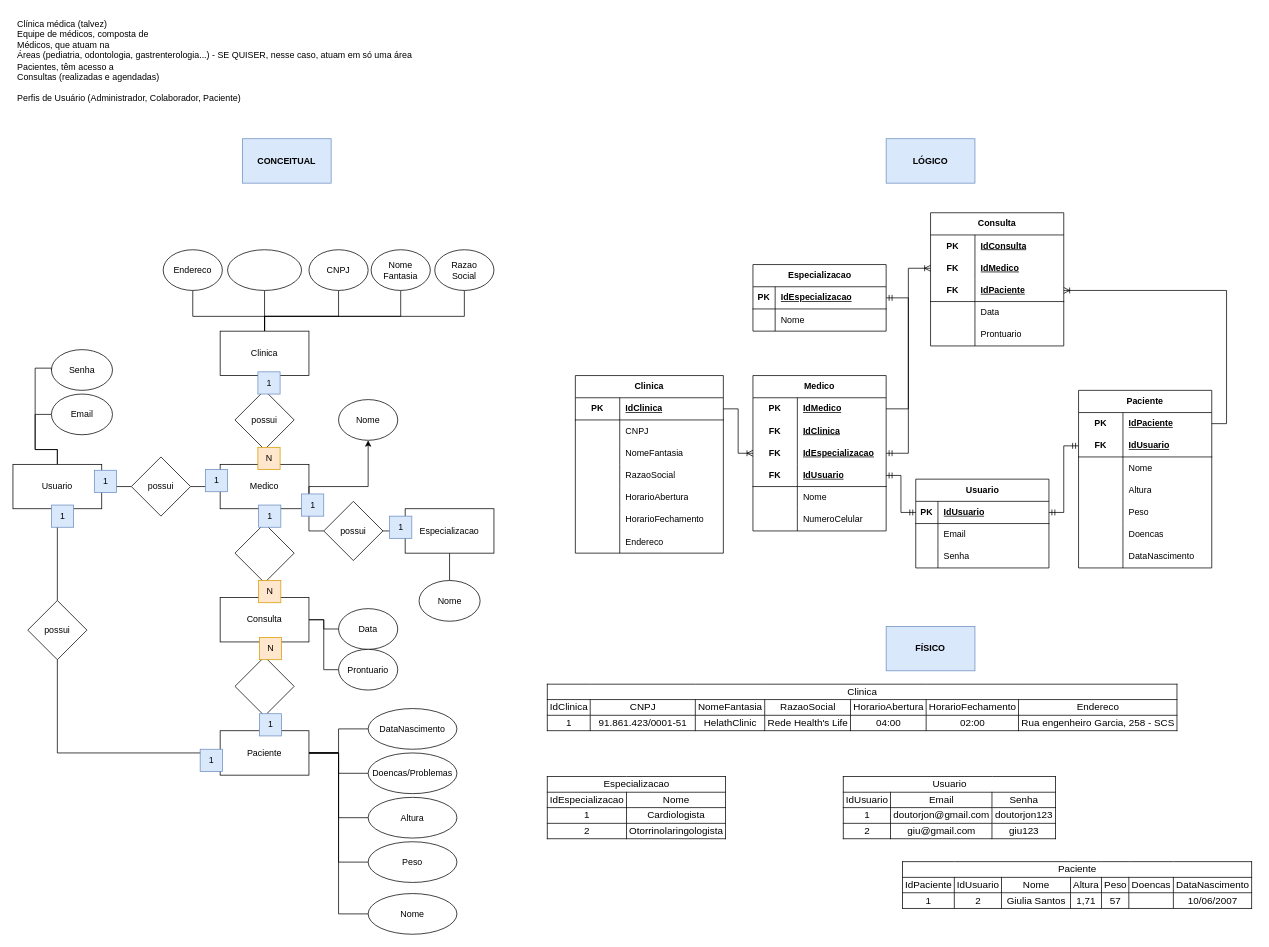
The diagram is 1269 pixels wide and 947 high, and some of its shapes have lost their labels. The shapes that lost their labels are listed below. From the top down, each one's centre as x and y in pixels, then its label:
[264,269]: Horario Funcionamento
[264,553]: realiza
[264,686]: atende
